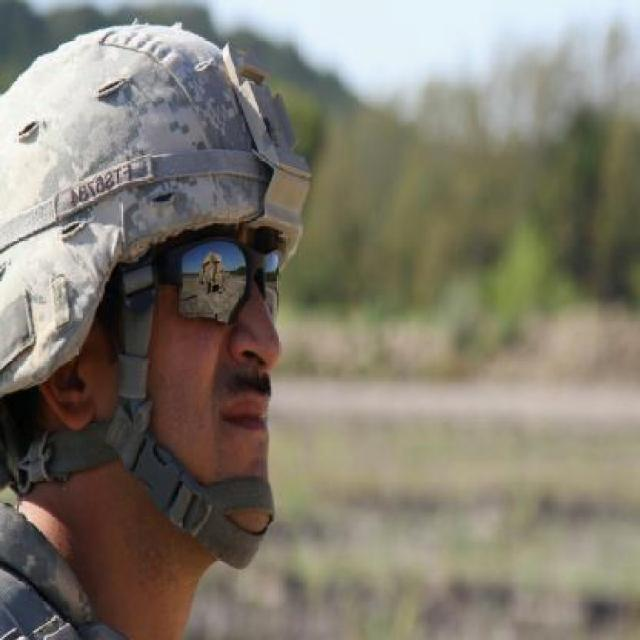face_nomask: (170, 239, 296, 450)
glasses: (152, 239, 286, 330)
head_helmet: (0, 21, 305, 272)
